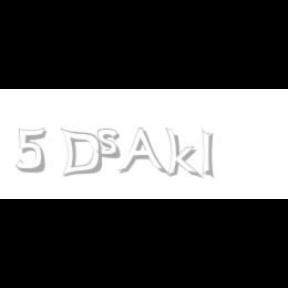5: (16, 128, 46, 174)
A: (118, 128, 166, 176)
D: (60, 128, 102, 178)
I: (202, 128, 214, 180)
k: (165, 128, 203, 180)
s: (97, 128, 125, 160)
